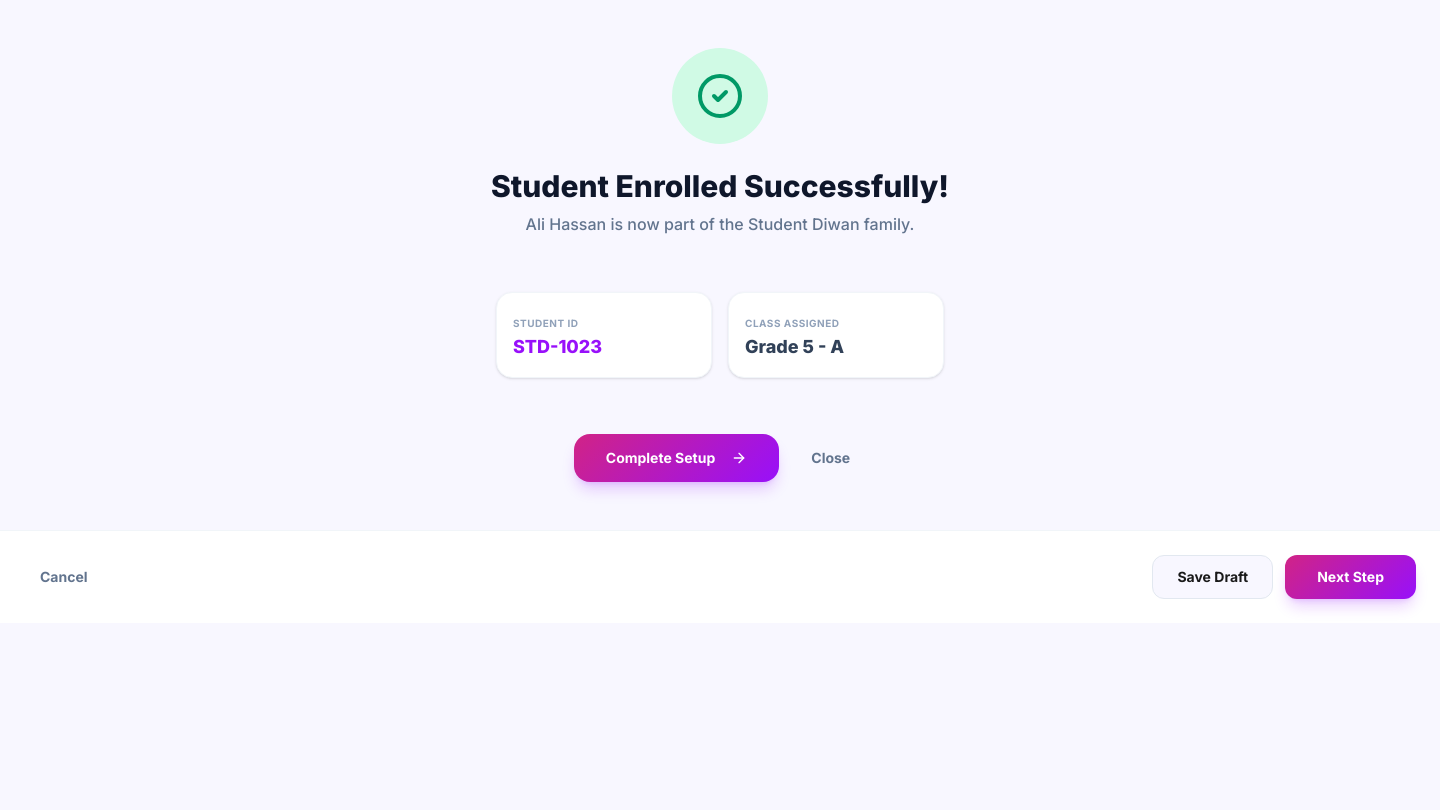
Test: PostEnrollmentFlow › jumps to the first incomplete step when Next Step is clicked from the checklist
Click the button "Complete Setup" at point(677, 458), box [574,434,779,482]
(page scrolled)
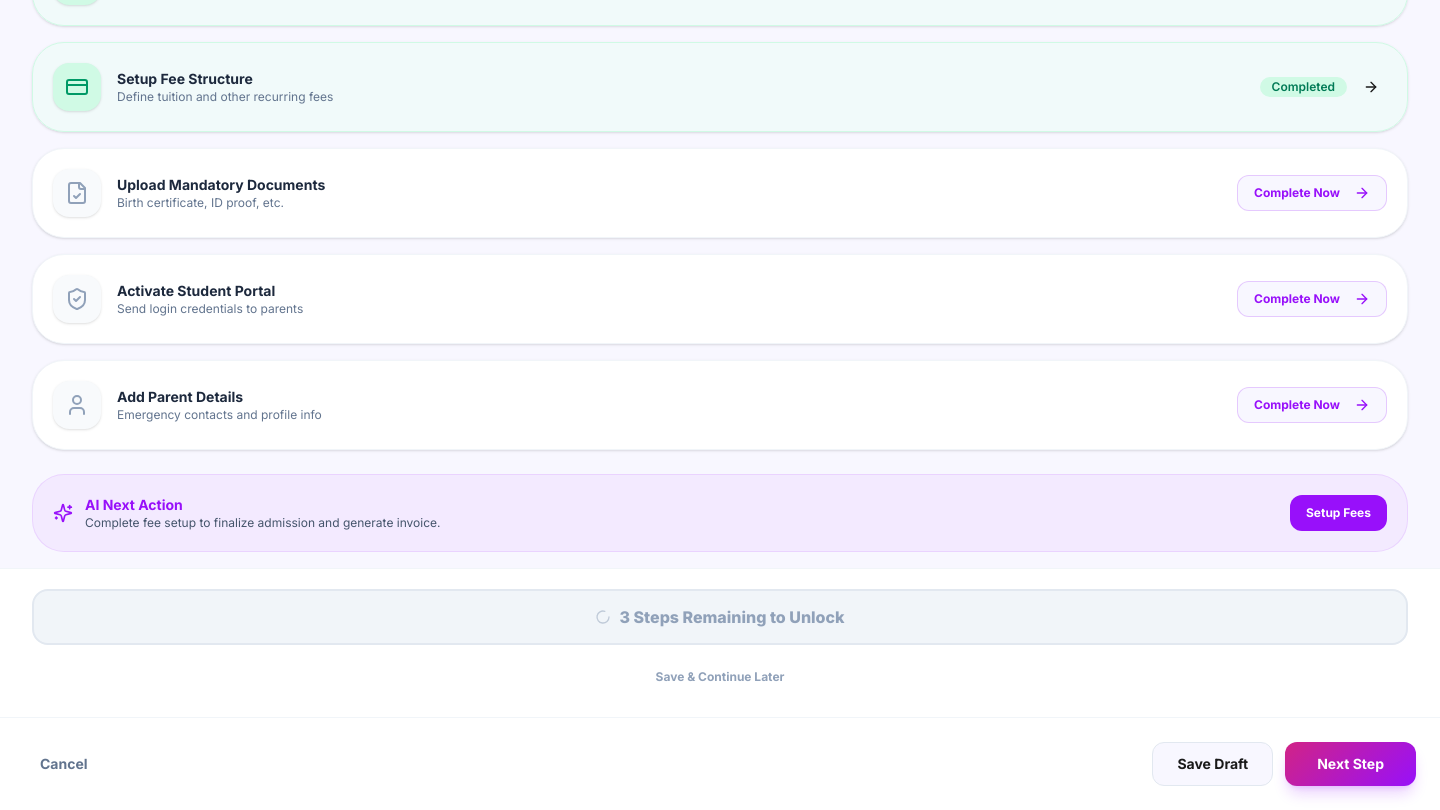
Click the button "Next Step" at point(1351, 764), box [1285,742,1416,786]
(page scrolled)
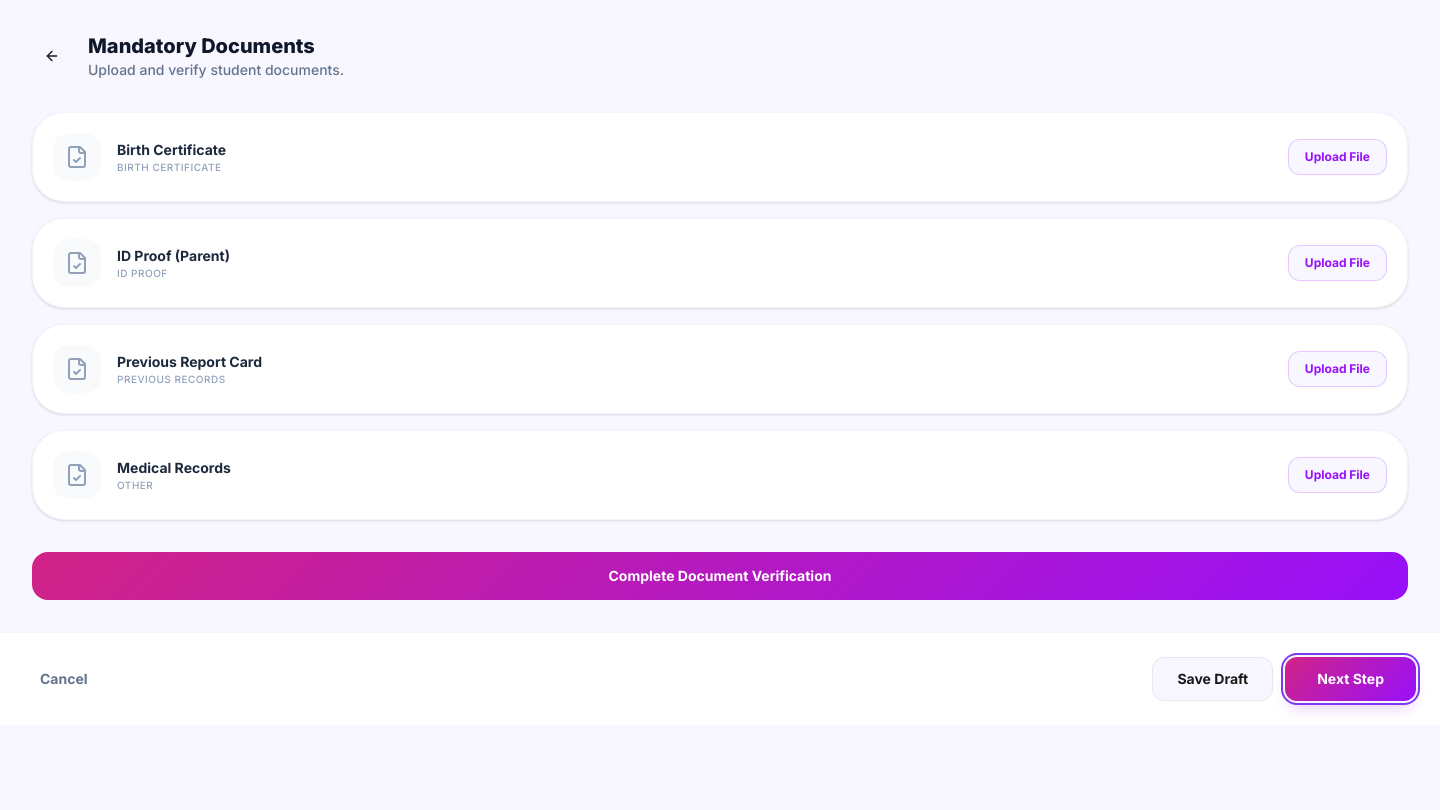
Expected: the heading "Mandatory Documents" is shown, [88,32,344,60]
